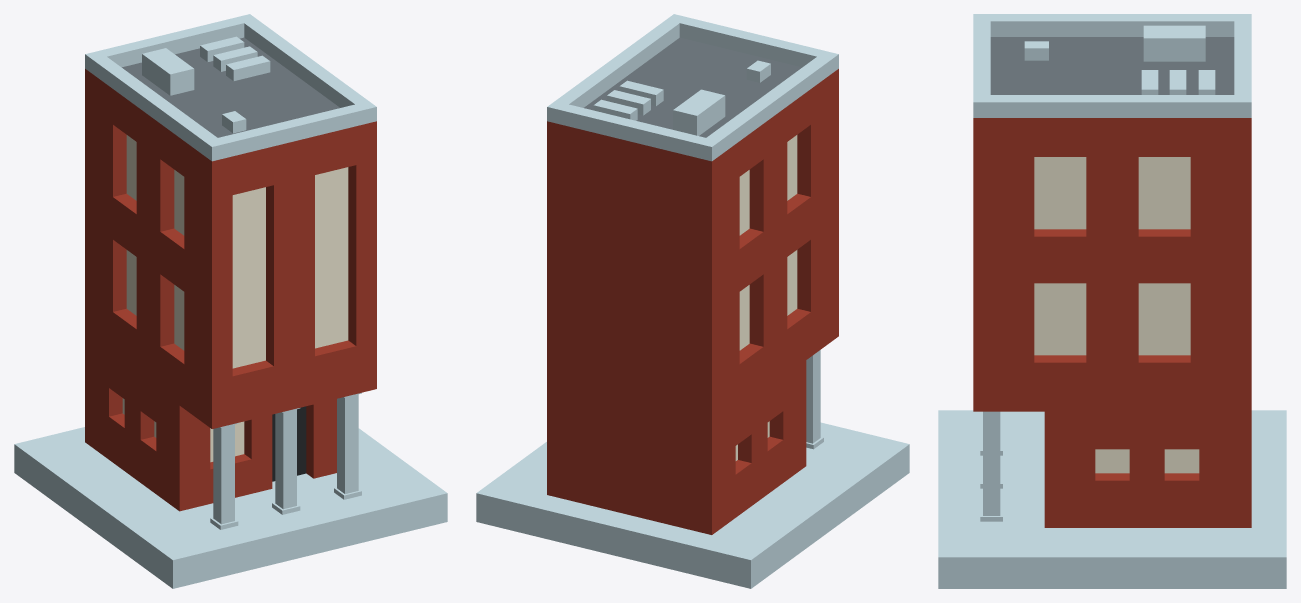
The model's file is Building_9_Base_Extra (Red).obj.
3 views of the same model, side by side, from view 1: azimuth 30°, elevation 25°; view 2: azimuth 150°, elevation 25°; view 3: azimuth 270°, elevation 25° (orthographic). The views are drawn at different scales.
Visible parts, largest first — view 1: Building_9_Base_Extra_(Red); view 2: Building_9_Base_Extra_(Red); view 3: Building_9_Base_Extra_(Red).
Boxes of the visible parts, bbox=[...] form: Building_9_Base_Extra_(Red): bbox=[14, 14, 447, 588]; Building_9_Base_Extra_(Red): bbox=[476, 14, 909, 588]; Building_9_Base_Extra_(Red): bbox=[938, 14, 1286, 588].
Bounding box in the file's own units: 2 × 2.95 × 2.
